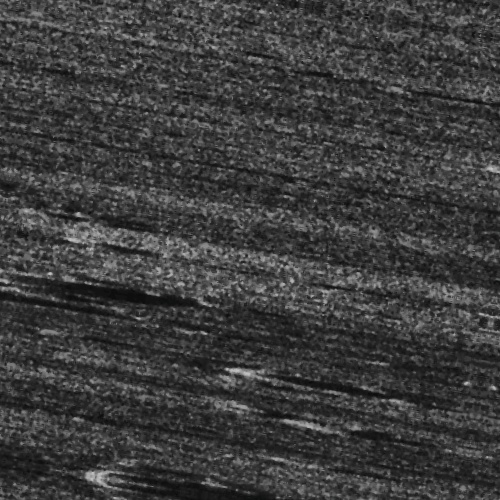object: (0, 301, 124, 322), (109, 481, 202, 500), (201, 361, 326, 374), (179, 489, 262, 500), (48, 357, 111, 362), (362, 62, 403, 67), (470, 123, 500, 128)
shadow: (156, 481, 476, 500), (19, 301, 193, 322), (264, 361, 432, 374), (0, 326, 106, 343), (221, 489, 332, 500), (383, 62, 485, 67), (80, 357, 171, 362), (0, 479, 59, 486)
